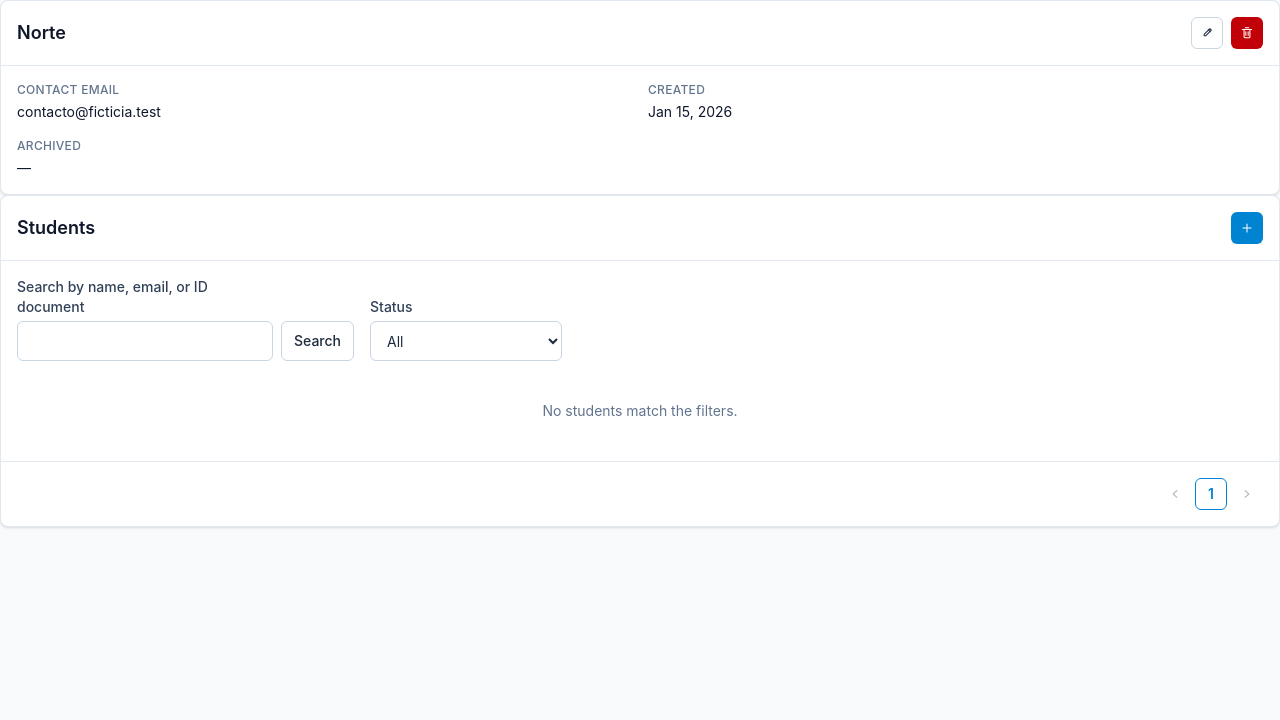
Test: InstitutionDetailPage › keeps the dialog open with the error when archiving fails
Click the button named "Archive": x=1247, y=33 [1231,17,1263,49]
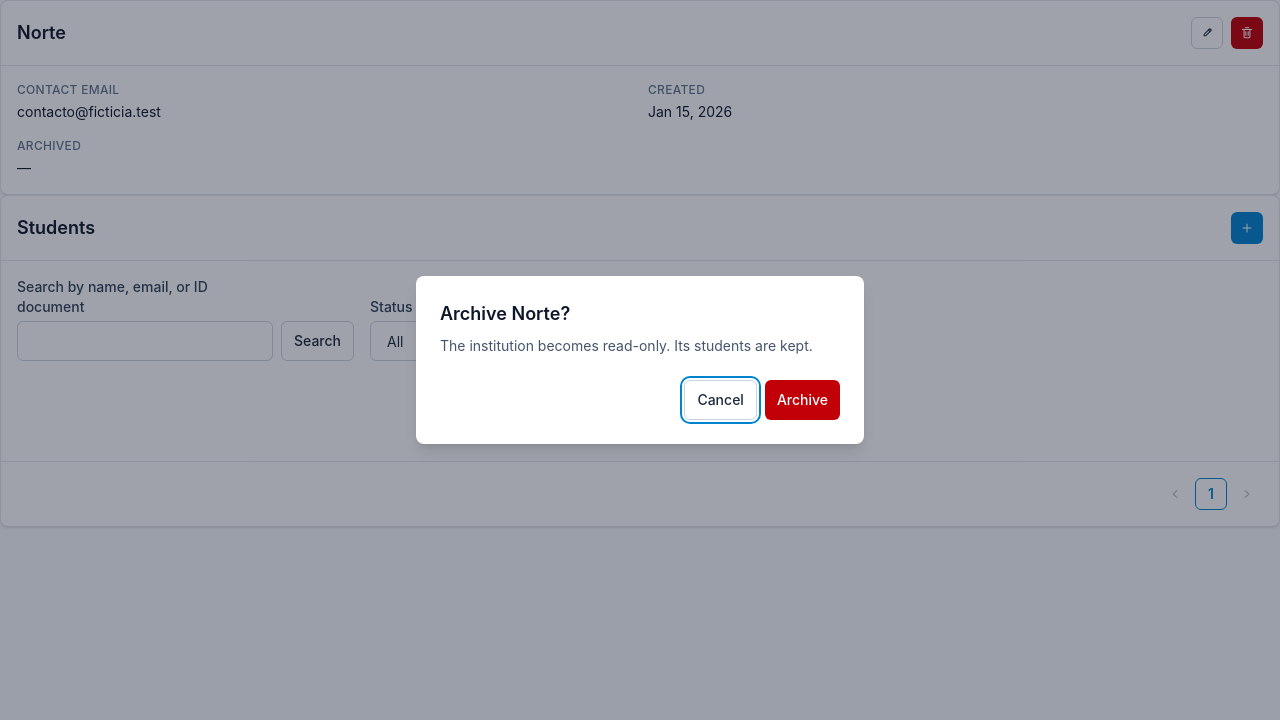
Click the button "Archive": x=802, y=400 [765,380,840,420]
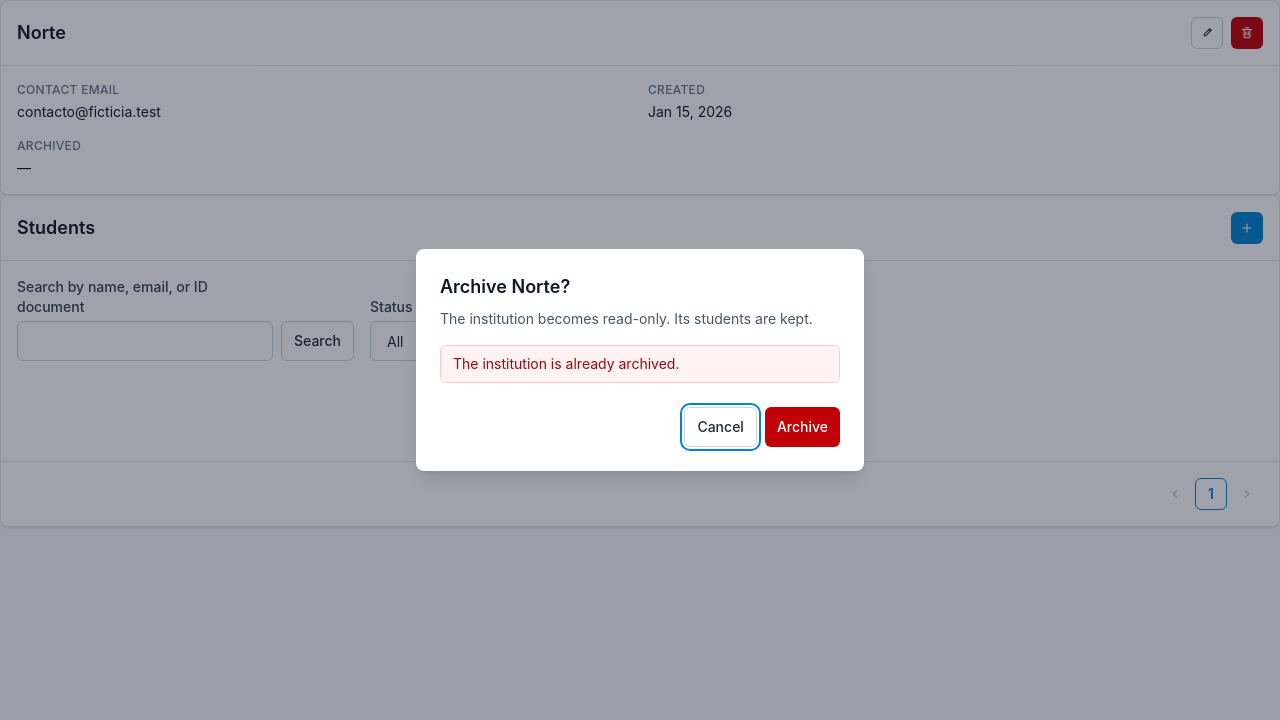
Now the message reads "The institution is already archived.", box [453,355,679,372]
